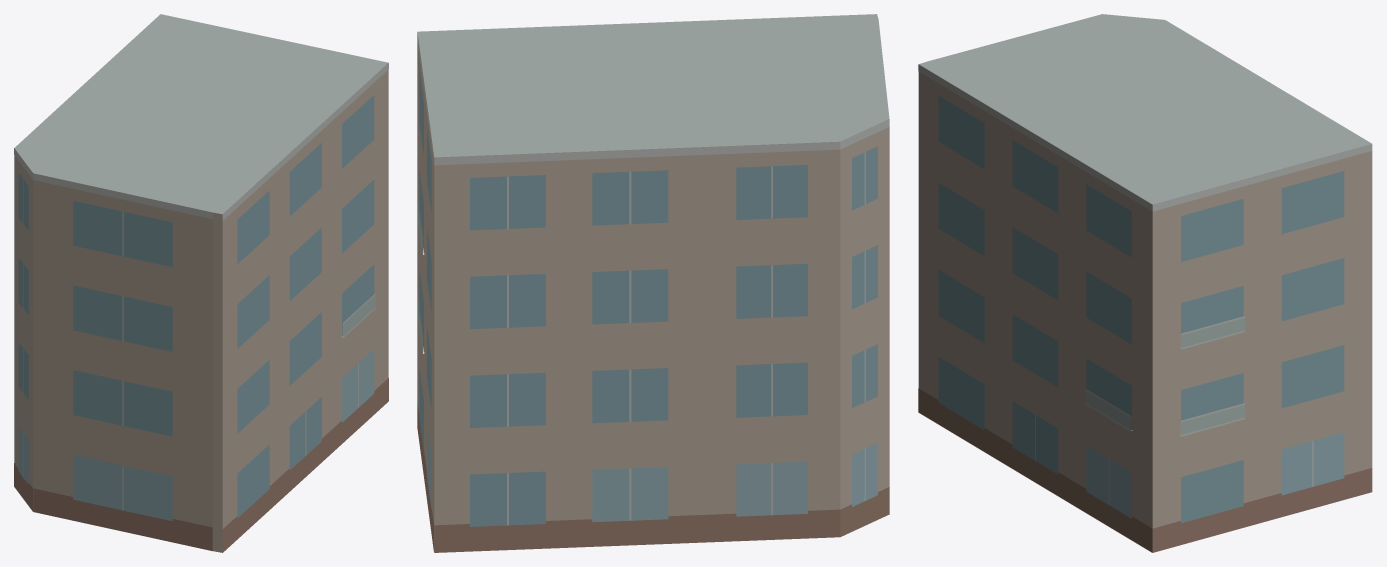
Rendered from survey-upis-32805082.glb.
3 renders of one model, left to right at view 1: azimuth 30°, elevation 25°; view 2: azimuth 150°, elevation 25°; view 3: azimuth 270°, elevation 25°, orthographic. The views are drawn at different scales.
Visible parts, largest first — view 1: survey-upis-32805082.tmp; view 2: survey-upis-32805082.tmp; view 3: survey-upis-32805082.tmp.
Boxes of the visible parts, box(x1,y1,x2,y2) form: survey-upis-32805082.tmp: box(14, 14, 388, 552); survey-upis-32805082.tmp: box(417, 14, 889, 552); survey-upis-32805082.tmp: box(918, 14, 1372, 552).
Size of the model in its own units: 14.33 by 12.2 by 14.42.
